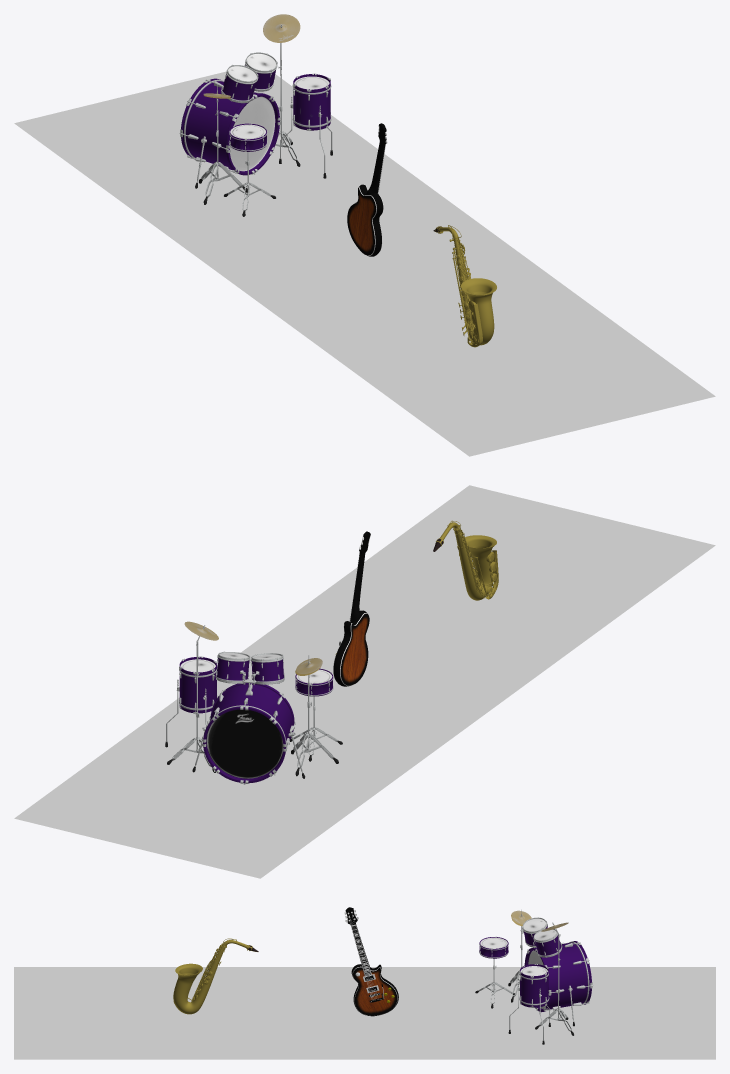
File: audio-high.glb
The picture shows the model from 3 angles, top to bottom: view 1: azimuth 30°, elevation 25°; view 2: azimuth 150°, elevation 25°; view 3: azimuth 270°, elevation 25°; orthographic projection. The views are drawn at different scales.
Visible parts, largest first — view 1: Backdrop, Drum_Big_High_poly_pasted__lambert12_0.001, pCube64, Drum_High_poly, Object_2, Tails_2_High_poly, Drum_Big_High_poly_pasted__lambert12_0.002, Object_3, Drum_snall_High_poly_pasted__lambert12_0.001, Tails_High_poly; view 2: Backdrop, Drum_Big_High_poly_pasted__lambert12_0.001, pCube64, Drum_High_poly, Object_2, Drum_Big_High_poly_pasted__lambert12_0.002, Tails_High_poly, Tails_2_High_poly, Drum_snall_High_poly_pasted__lambert12_0.001; view 3: Backdrop, Drum_Big_High_poly_pasted__lambert12_0.001, pCube64, Object_2, Drum_High_poly, Drum_Big_High_poly_pasted__lambert12_0.002, Tails_2_High_poly, Drum_snall_High_poly_pasted__lambert12_0.001, Drum_snall_High_poly, Tails_High_poly, Drum_Big_High_poly, Object_3.
Boxes of the visible parts, <box> form: Backdrop: <box>14,71,715,456</box>; Drum_Big_High_poly_pasted__lambert12_0.001: <box>180,60,279,188</box>; pCube64: <box>347,123,387,256</box>; Drum_High_poly: <box>279,73,332,178</box>; Object_2: <box>439,227,496,345</box>; Tails_2_High_poly: <box>263,14,300,166</box>; Drum_Big_High_poly_pasted__lambert12_0.002: <box>179,52,277,174</box>; Object_3: <box>448,225,473,339</box>; Drum_snall_High_poly_pasted__lambert12_0.001: <box>228,123,275,210</box>; Tails_High_poly: <box>199,84,247,204</box>; Backdrop: <box>14,485,715,878</box>; Drum_Big_High_poly_pasted__lambert12_0.001: <box>203,652,305,783</box>; pCube64: <box>333,531,370,686</box>; Drum_High_poly: <box>165,656,217,747</box>; Object_2: <box>440,522,496,600</box>; Drum_Big_High_poly_pasted__lambert12_0.002: <box>215,652,299,784</box>; Tails_High_poly: <box>291,655,338,776</box>; Tails_2_High_poly: <box>167,621,218,772</box>; Drum_snall_High_poly_pasted__lambert12_0.001: <box>290,668,338,742</box>; Backdrop: <box>14,967,715,1059</box>; Drum_Big_High_poly_pasted__lambert12_0.001: <box>522,917,591,1012</box>; pCube64: <box>344,907,398,1016</box>; Object_2: <box>173,940,247,1014</box>; Drum_High_poly: <box>508,964,550,1044</box>; Drum_Big_High_poly_pasted__lambert12_0.002: <box>522,920,581,1011</box>; Tails_2_High_poly: <box>535,922,573,1035</box>; Drum_snall_High_poly_pasted__lambert12_0.001: <box>479,937,508,1008</box>; Drum_snall_High_poly: <box>475,936,514,1003</box>; Tails_High_poly: <box>508,909,531,1002</box>; Drum_Big_High_poly: <box>527,920,593,1026</box>; Object_3: <box>192,939,236,1001</box>.
Size of the model in its own units: 4.61 by 2.53 by 14.76.
Materials: 18 (3 with a texture image).
